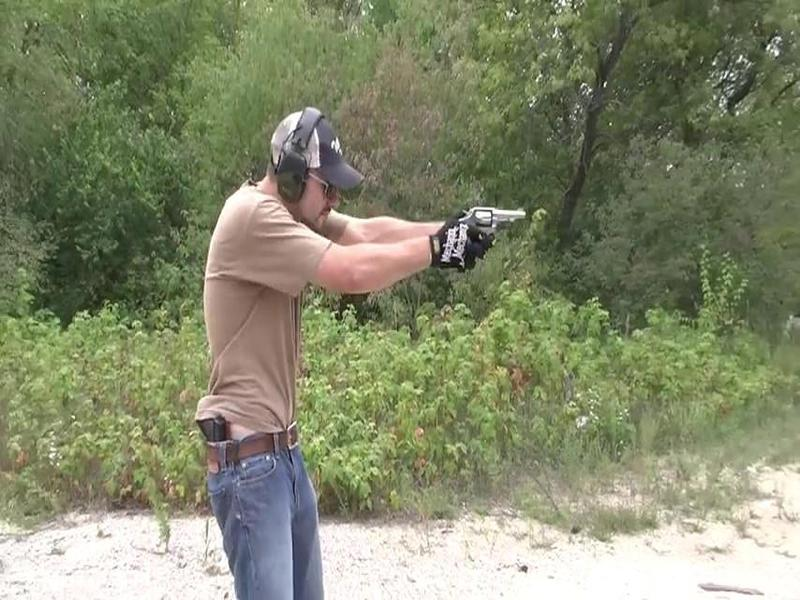Revolver: (447, 194, 527, 259)
